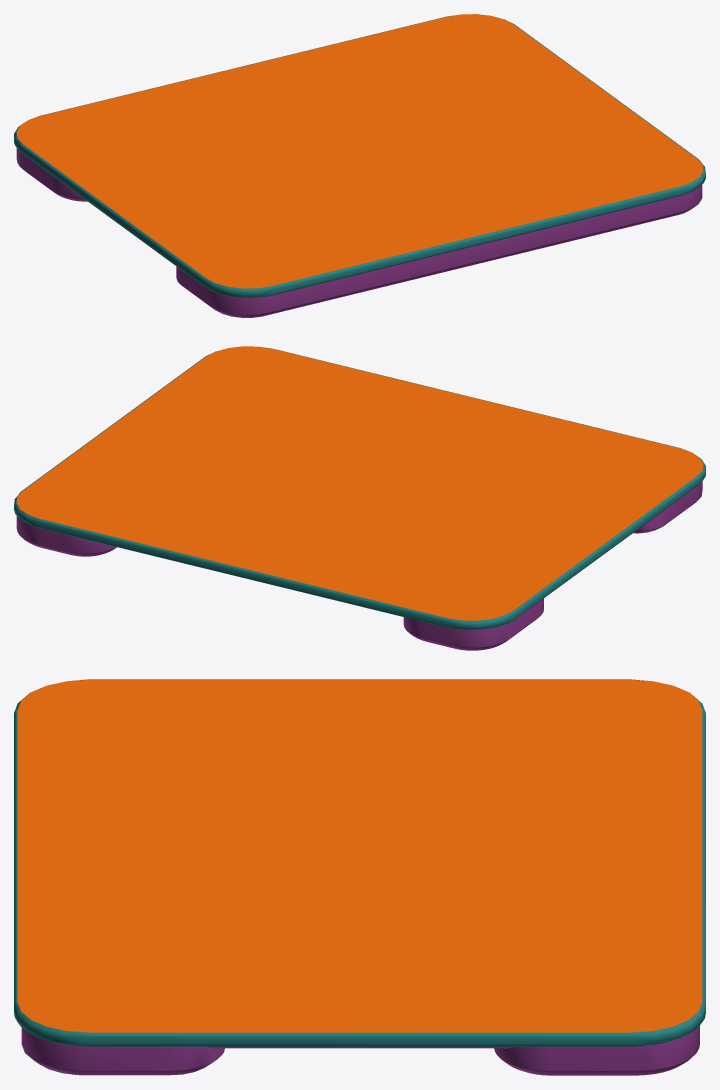
The picture shows the model from 3 angles, top to bottom: view 1: azimuth 30°, elevation 25°; view 2: azimuth 150°, elevation 25°; view 3: azimuth 270°, elevation 25°; orthographic projection. The views are drawn at different scales.
Visible parts, largest first — view 1: 600; view 2: 600; view 3: 600.
Part boxes in pixels (x1=…): 600: x1=14, y1=14, x2=705, y2=317; 600: x1=14, y1=346, x2=705, y2=650; 600: x1=14, y1=679, x2=705, y2=1075.
Size of the model in its own units: 28.4 by 2.26 by 23.33.
